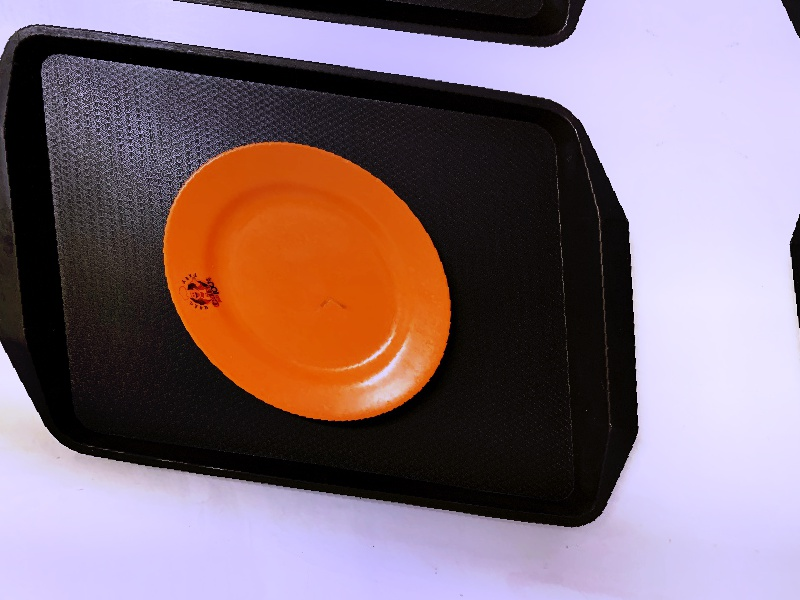dish10: (147, 118, 467, 444)
